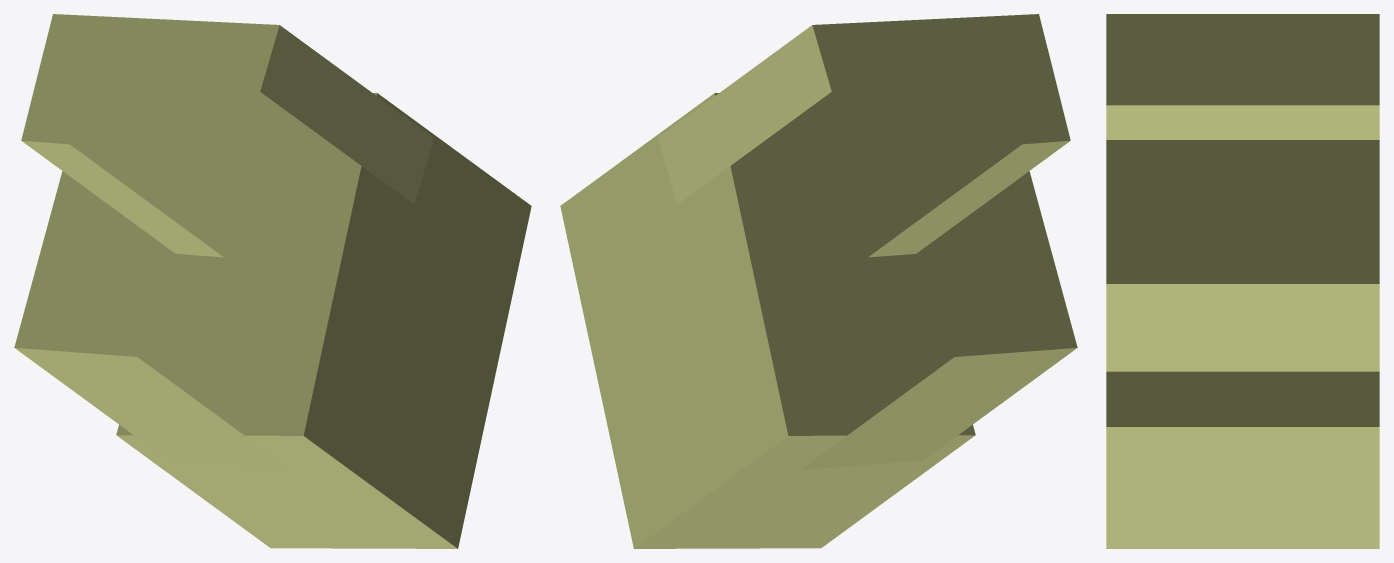
The picture shows the model from 3 angles, left to right: view 1: azimuth 30°, elevation 25°; view 2: azimuth 150°, elevation 25°; view 3: azimuth 270°, elevation 25°; orthographic projection. The views are drawn at different scales.
Parts seen in each view (by area): view 1: 0_1_0_1_3_3_3_0_3_2_2; view 2: 0_1_0_1_3_3_3_0_3_2_2; view 3: 0_1_0_1_3_3_3_0_3_2_2.
Boxes of the visible parts, bbox=[...] form: 0_1_0_1_3_3_3_0_3_2_2: bbox=[14, 14, 531, 548]; 0_1_0_1_3_3_3_0_3_2_2: bbox=[560, 14, 1077, 548]; 0_1_0_1_3_3_3_0_3_2_2: bbox=[1106, 14, 1379, 548].
Bounding box in the file's own units: 8.14 × 10.35 × 6.
